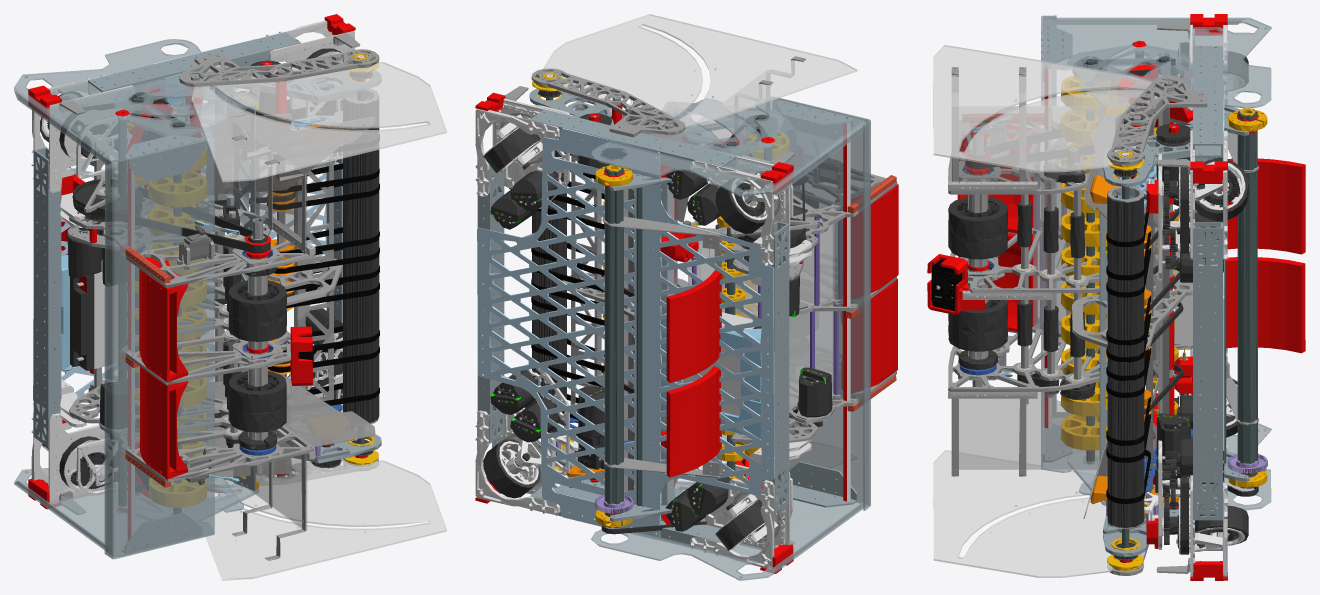
The picture shows the model from 3 angles, left to right: view 1: azimuth 30°, elevation 25°; view 2: azimuth 150°, elevation 25°; view 3: azimuth 270°, elevation 25°; orthographic projection. The views are drawn at different scales.
Visible parts, largest first — view 1: main_mesh, c2_mesh, c1_mesh, c0_mesh; view 2: main_mesh, c2_mesh, c1_mesh, c0_mesh; view 3: main_mesh, c1_mesh, c2_mesh, c0_mesh.
Part boxes in pixels (bbox=[...]): main_mesh: bbox=[28, 14, 446, 580]; c2_mesh: bbox=[14, 39, 243, 559]; c1_mesh: bbox=[114, 78, 258, 522]; c0_mesh: bbox=[61, 157, 108, 399]; main_mesh: bbox=[475, 14, 898, 573]; c2_mesh: bbox=[591, 96, 870, 580]; c1_mesh: bbox=[595, 102, 789, 540]; c0_mesh: bbox=[603, 216, 721, 477]; main_mesh: bbox=[927, 14, 1248, 580]; c1_mesh: bbox=[1060, 40, 1267, 505]; c2_mesh: bbox=[1041, 15, 1271, 510]; c0_mesh: bbox=[1214, 132, 1305, 425].
Bounding box in the file's own units: 0.6308 × 0.7751 × 0.6413.
